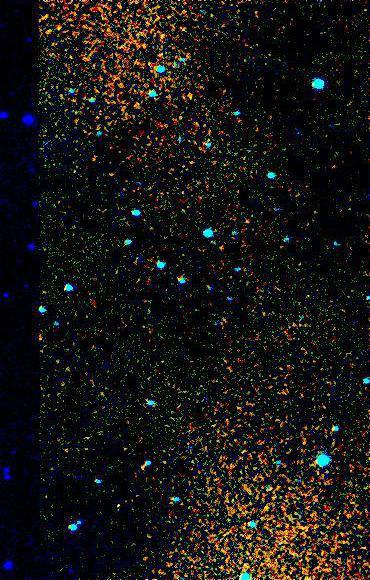star: (209, 237, 239, 267)
